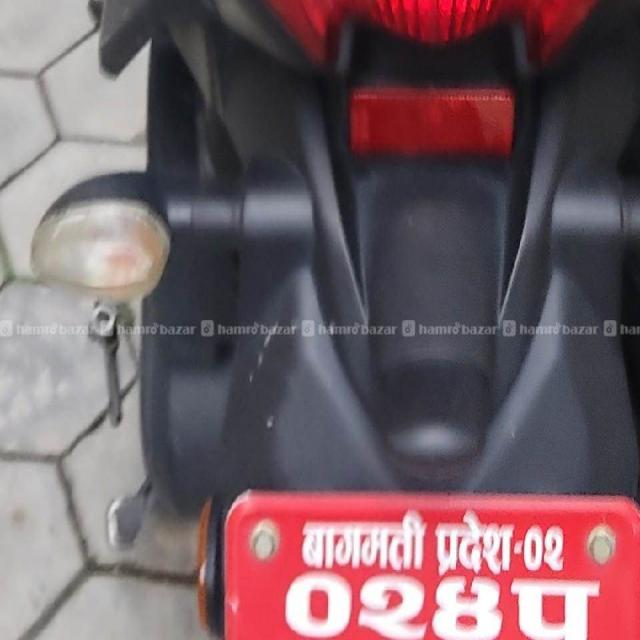License-plate: (224, 486, 640, 640)
